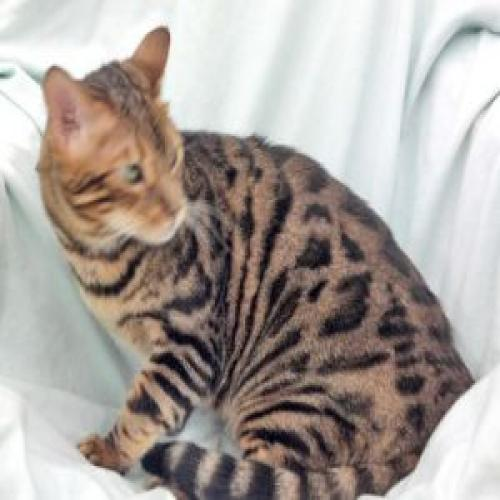cat-face: (31, 36, 208, 254)
